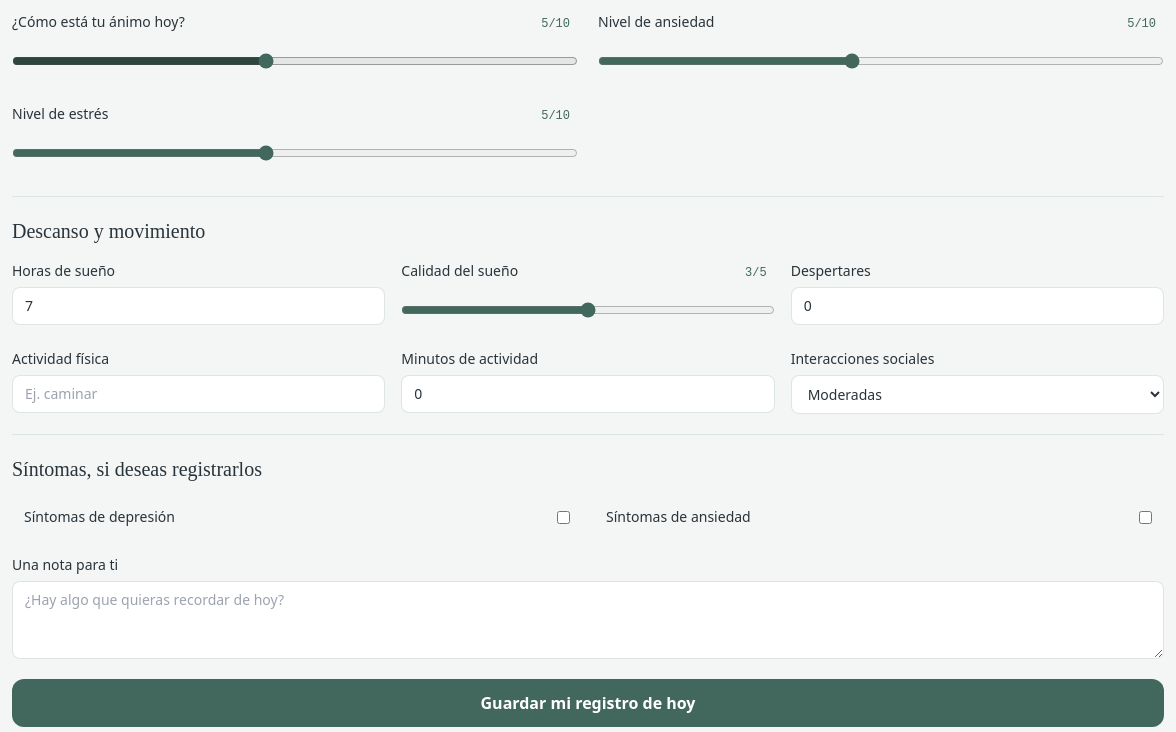
DailyLogForm › submits the default form values and reports the created log
Click the button "Guardar mi registro de hoy": click(588, 703) [12,679,1164,727]
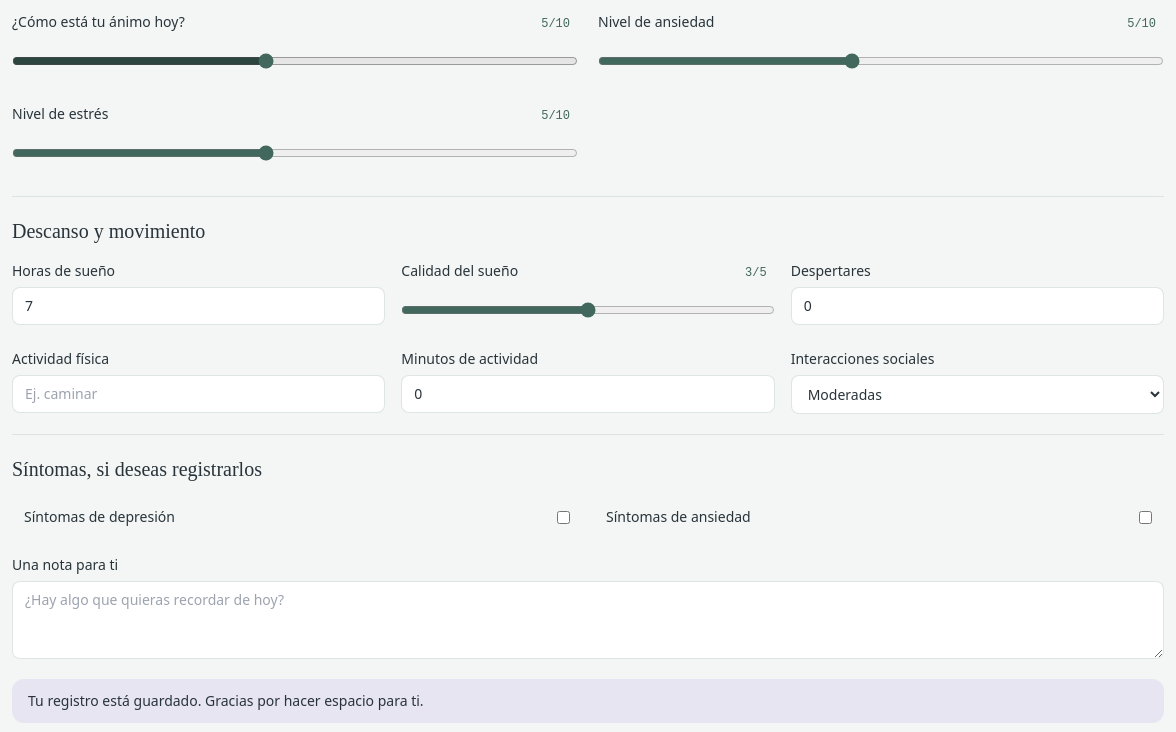
Check: the message shows "Tu registro está guardado.", box [28,691,424,710]
